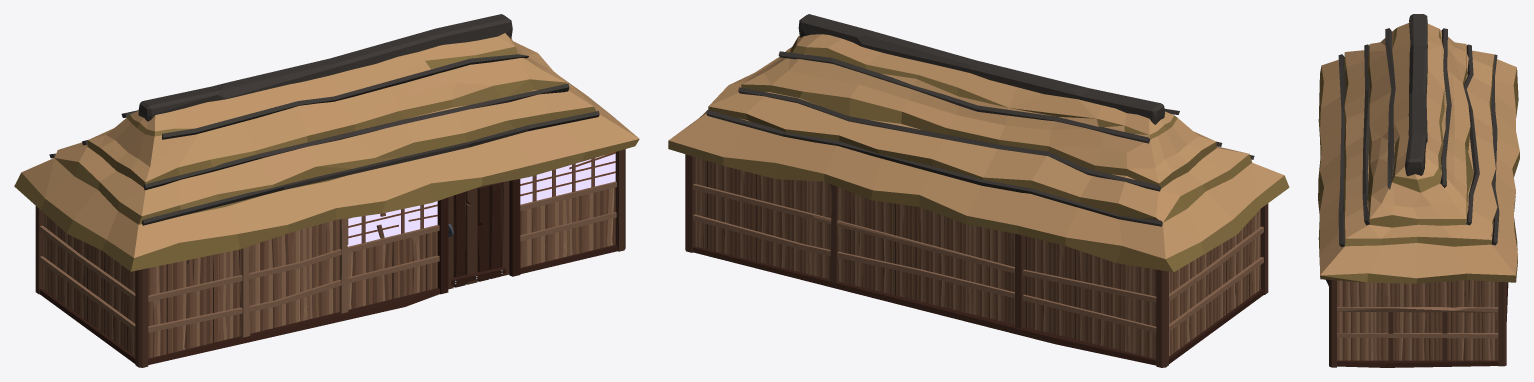
The model's file is Building_4 Asia.fbx.
3 renders of one model, left to right at view 1: azimuth 30°, elevation 25°; view 2: azimuth 150°, elevation 25°; view 3: azimuth 270°, elevation 25°, orthographic. The views are drawn at different scales.
Parts seen in each view (by area): view 1: Building_4; view 2: Building_4; view 3: Building_4.
Part boxes in pixels (x1,y1,x2,y2): Building_4: [14, 14, 639, 367]; Building_4: [668, 14, 1289, 367]; Building_4: [1318, 14, 1519, 367].
Size of the model in its own units: 9.52 by 3.73 by 3.81.
